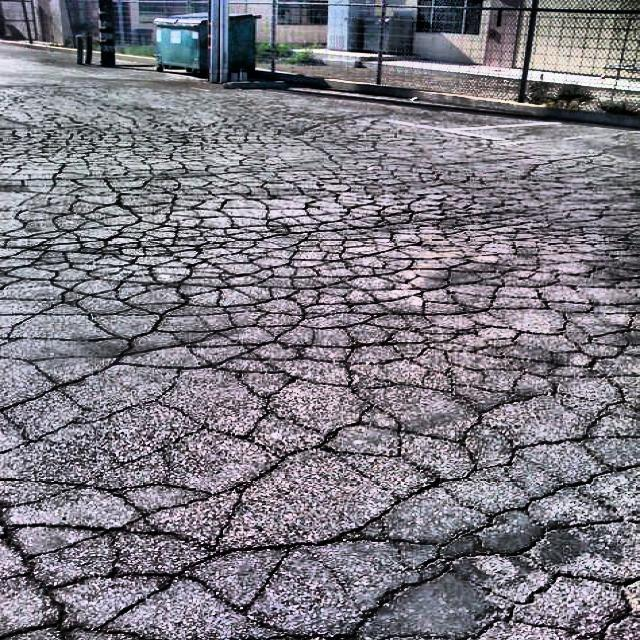alligator_cracks: (83, 186, 556, 362)
